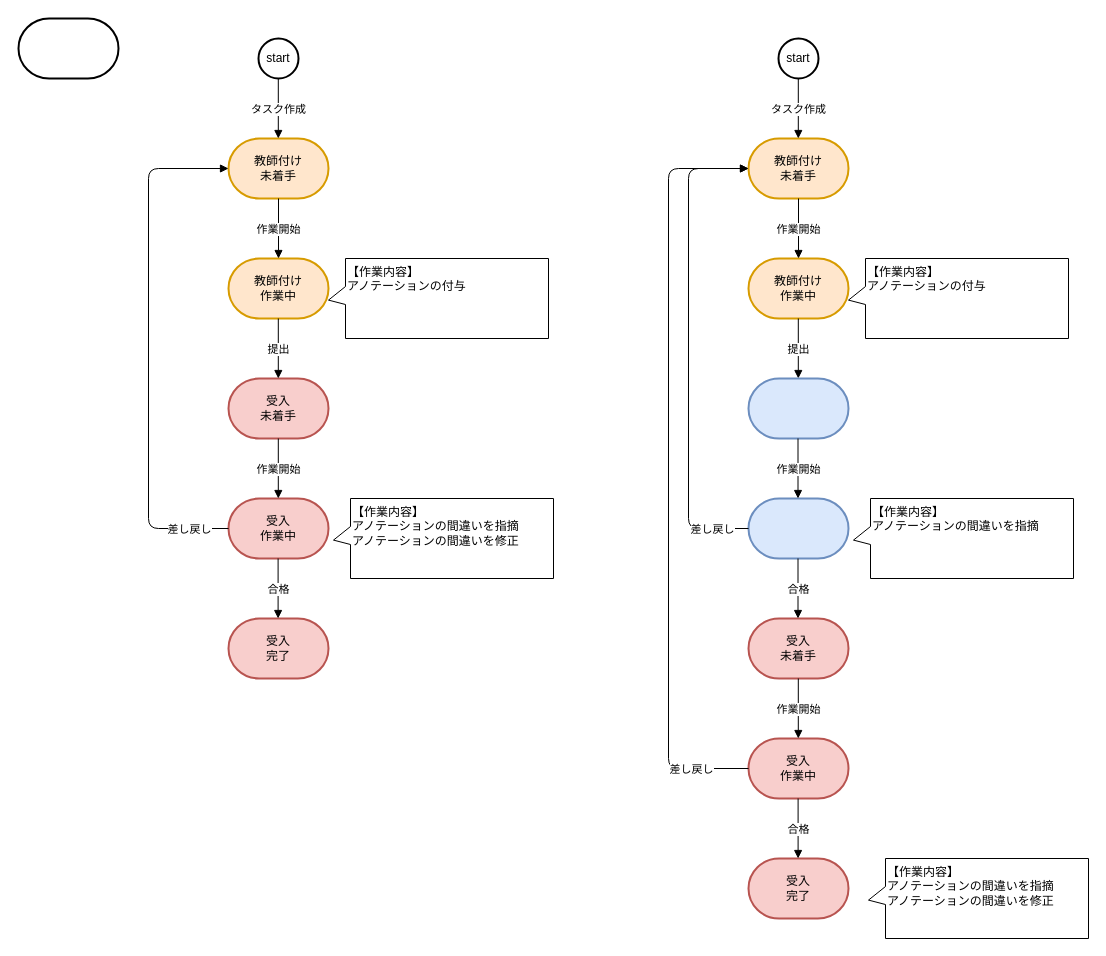
Some shapes in this 1106 by 956 pixel diagram are drawn without their labels. Here are the shapes that lost their labels. From the top down, the box of each, then its label:
(17, 17, 119, 79): {フェーズ} {状態}
(747, 377, 849, 439): 検査 未着手
(747, 497, 849, 559): 検査 作業中
